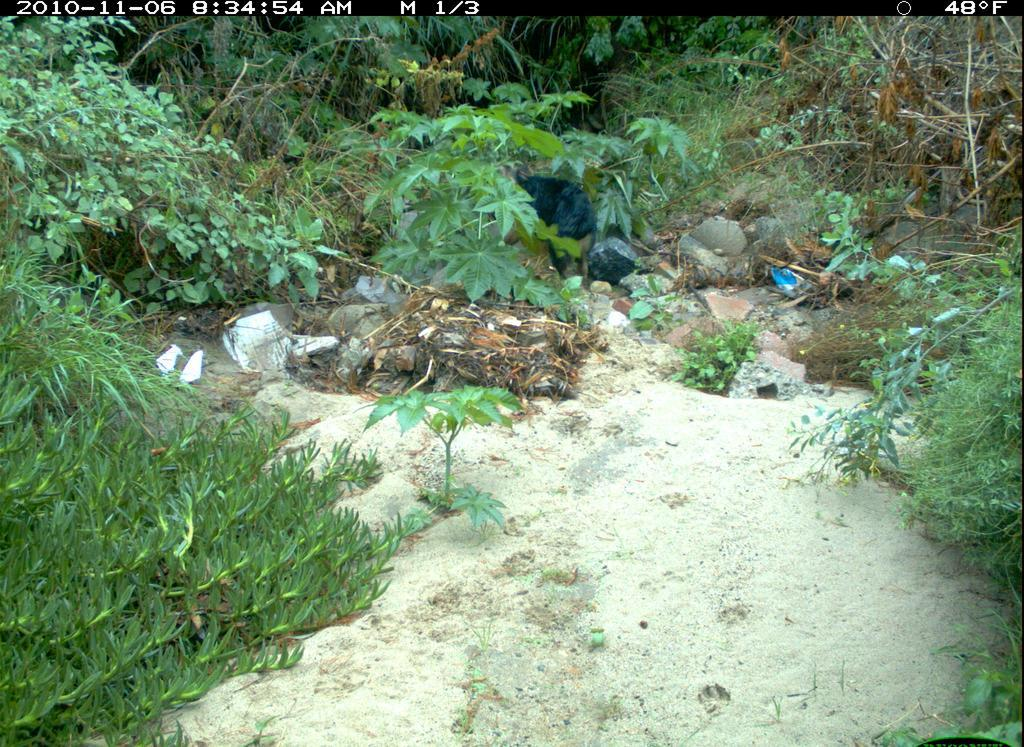dog: (511, 167, 603, 300)
